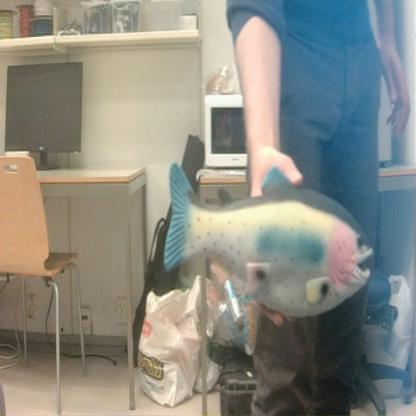rubberfish: (163, 157, 376, 324)
